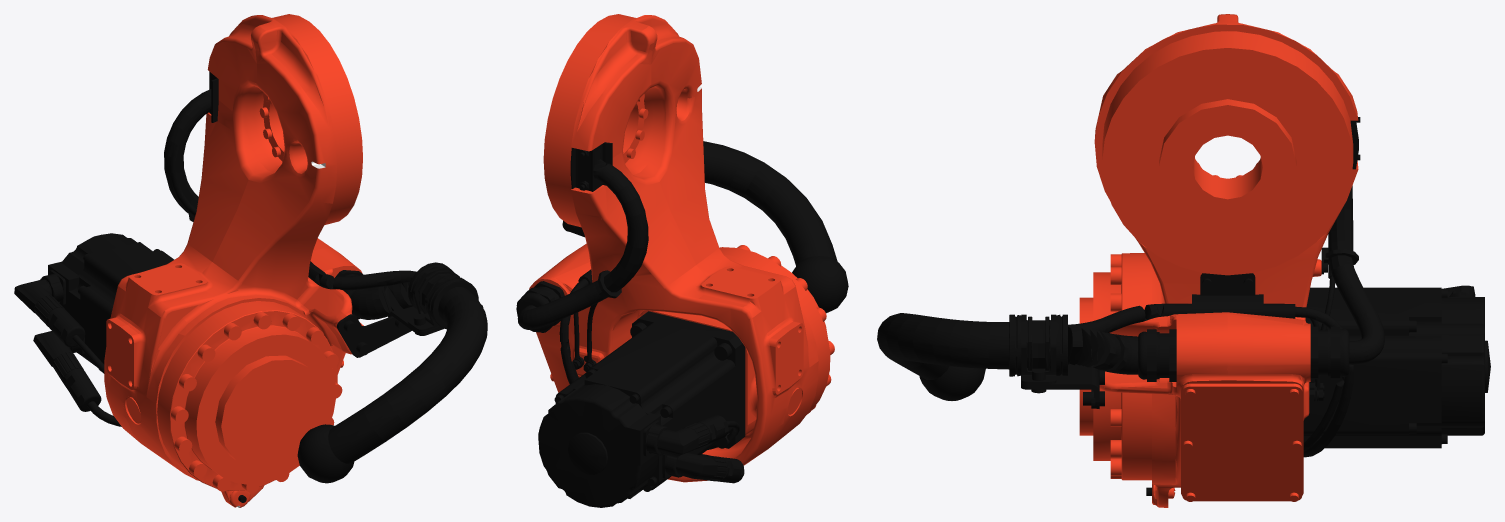
3 renders of one model, left to right at view 1: azimuth 30°, elevation 25°; view 2: azimuth 150°, elevation 25°; view 3: azimuth 270°, elevation 25°, orthographic. The views are drawn at different scales.
Parts seen in each view (by area): view 1: link_3; view 2: link_3; view 3: link_3.
Boxes of the visible parts, <box> form: link_3: <box>14,14,487,507</box>; link_3: <box>516,14,848,507</box>; link_3: <box>877,14,1490,507</box>.
Size of the model in its own units: 0.2742 by 0.4449 by 0.4165.
